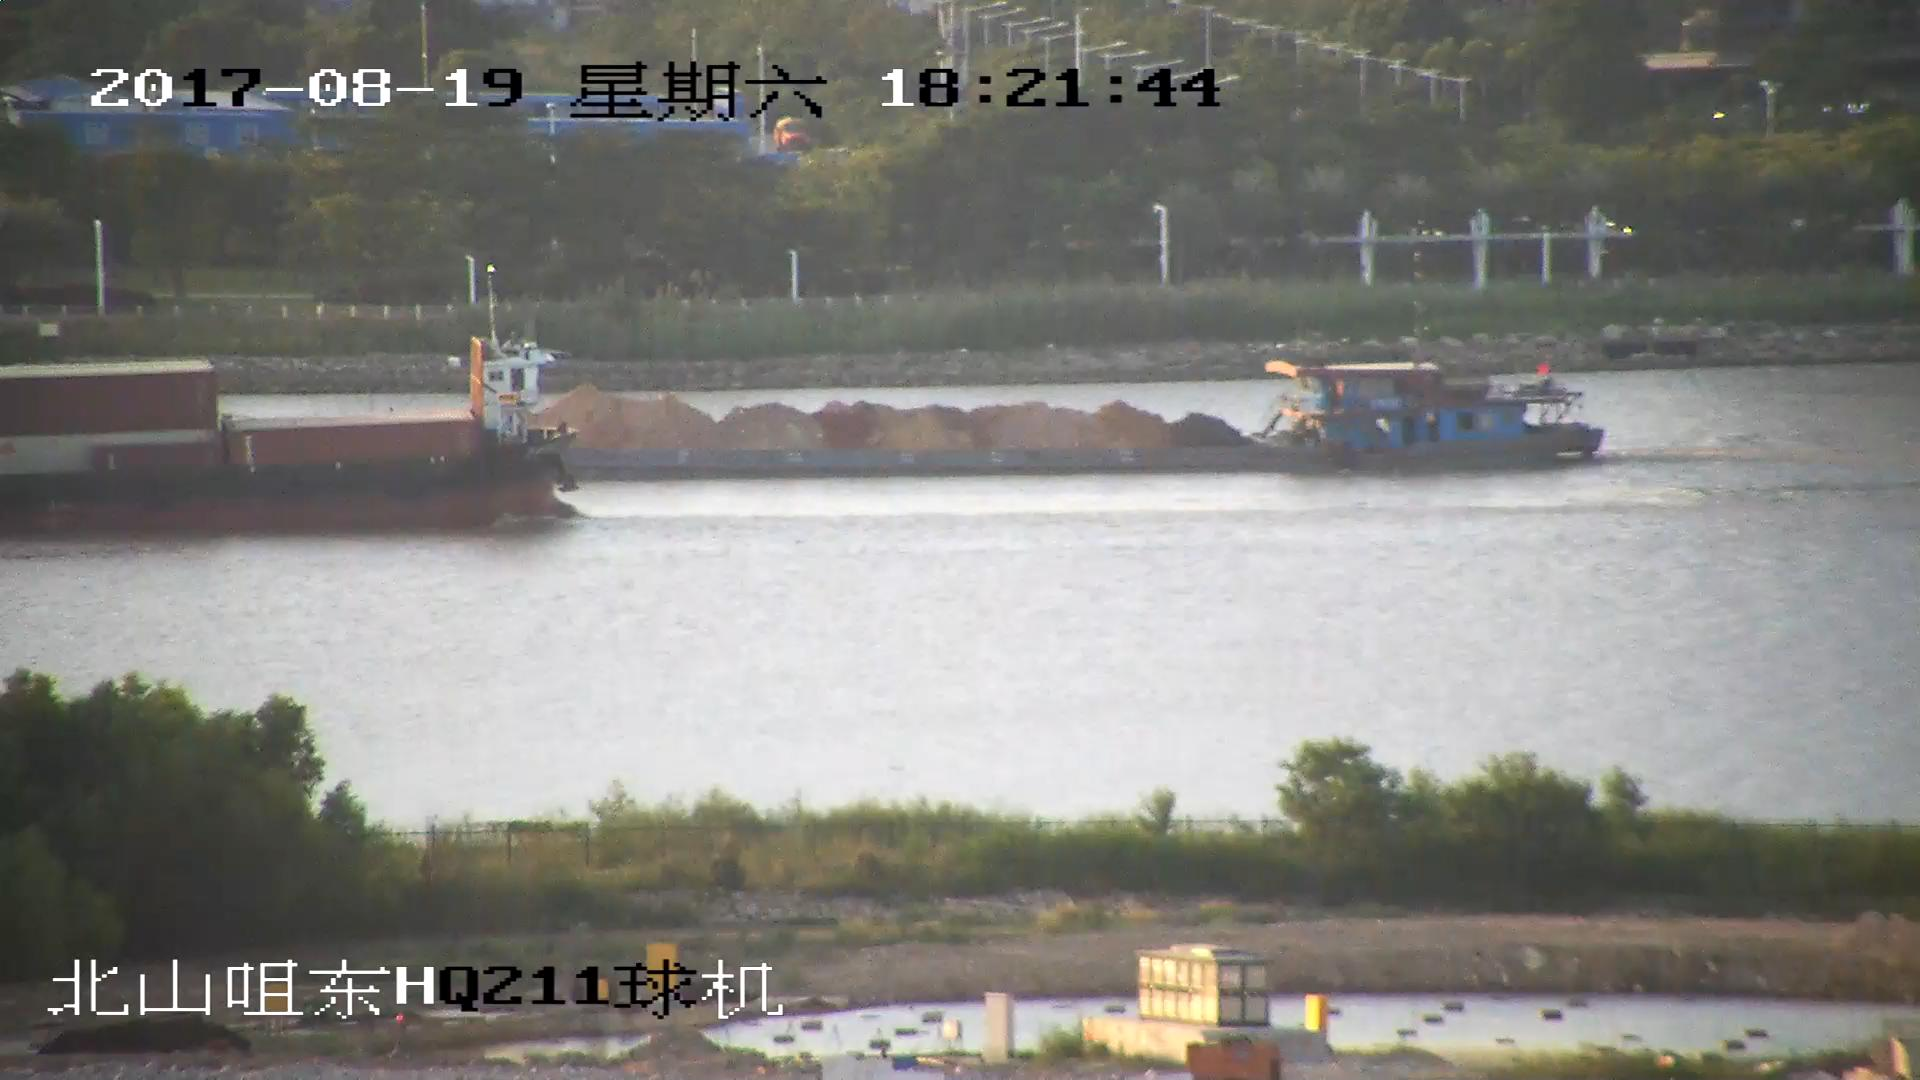container ship: (1, 335, 578, 541)
ore carrier: (590, 354, 1601, 472)
